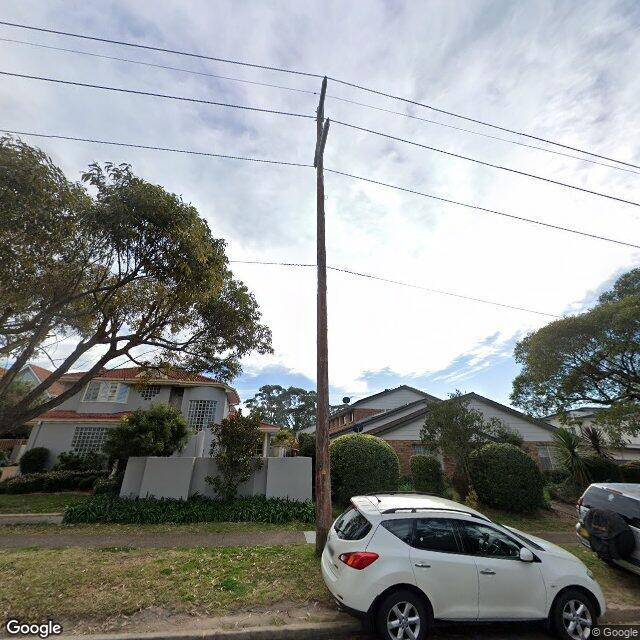HV-transmission: (314, 76, 329, 168)
timber-pole: (315, 106, 332, 556)
